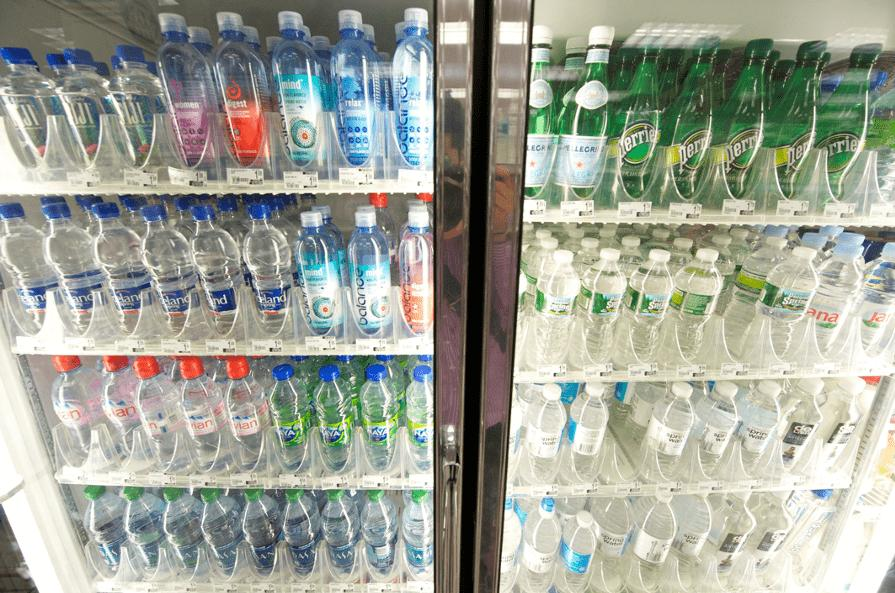bottle: (145, 3, 223, 593), (617, 0, 677, 373), (90, 46, 169, 178), (269, 475, 325, 586), (700, 218, 716, 589)
